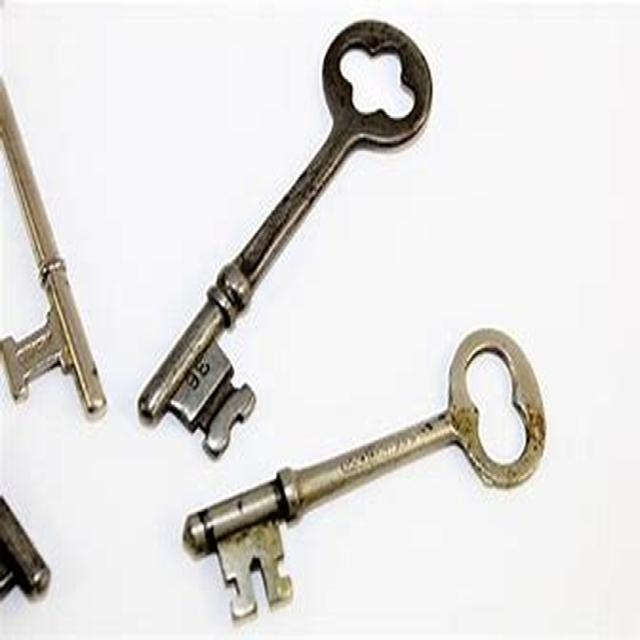key: (148, 308, 606, 618)
